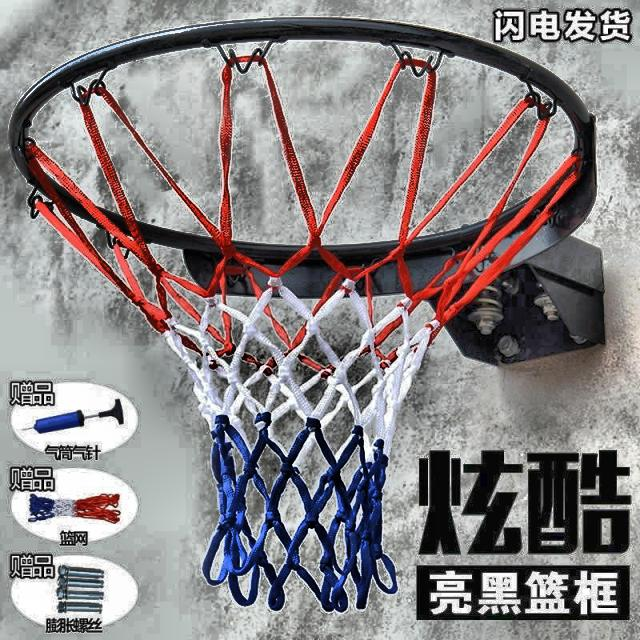rim: (5, 21, 594, 603)
